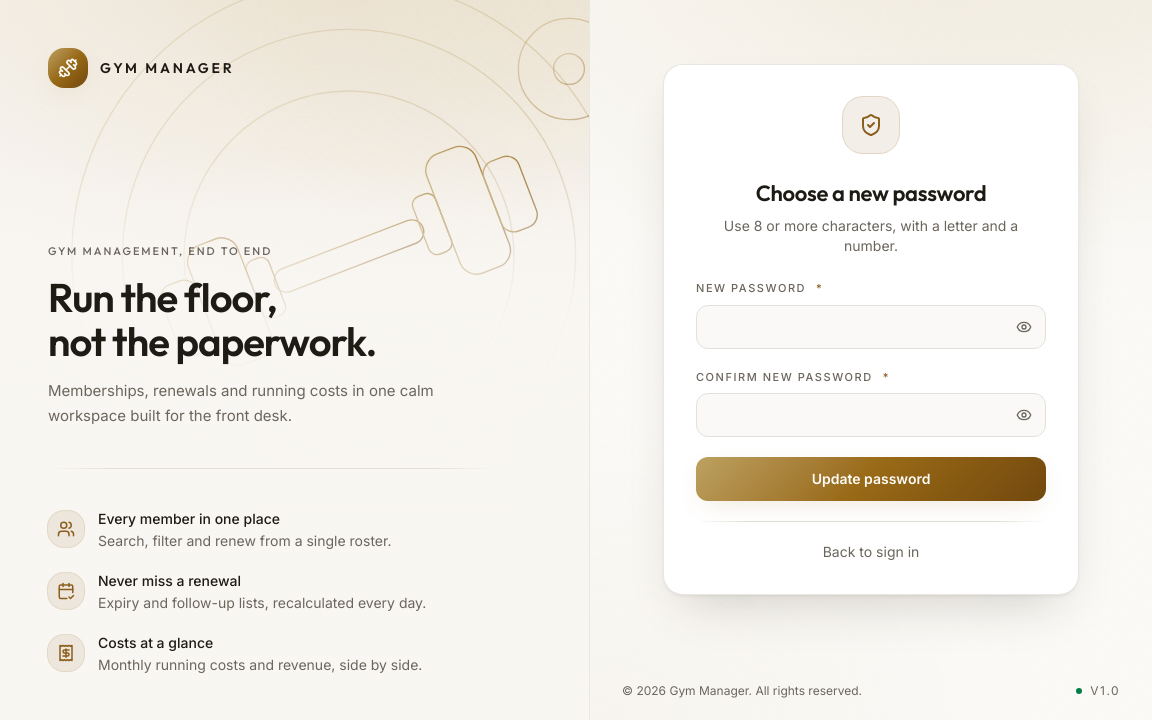
Scenario: ResetPasswordPage › surfaces an expired-token error from the server
Step 1. Type "BrandNew1" into the password field labelled "New password *" → x=871, y=326, box x1=696 y1=304 x2=1046 y2=348
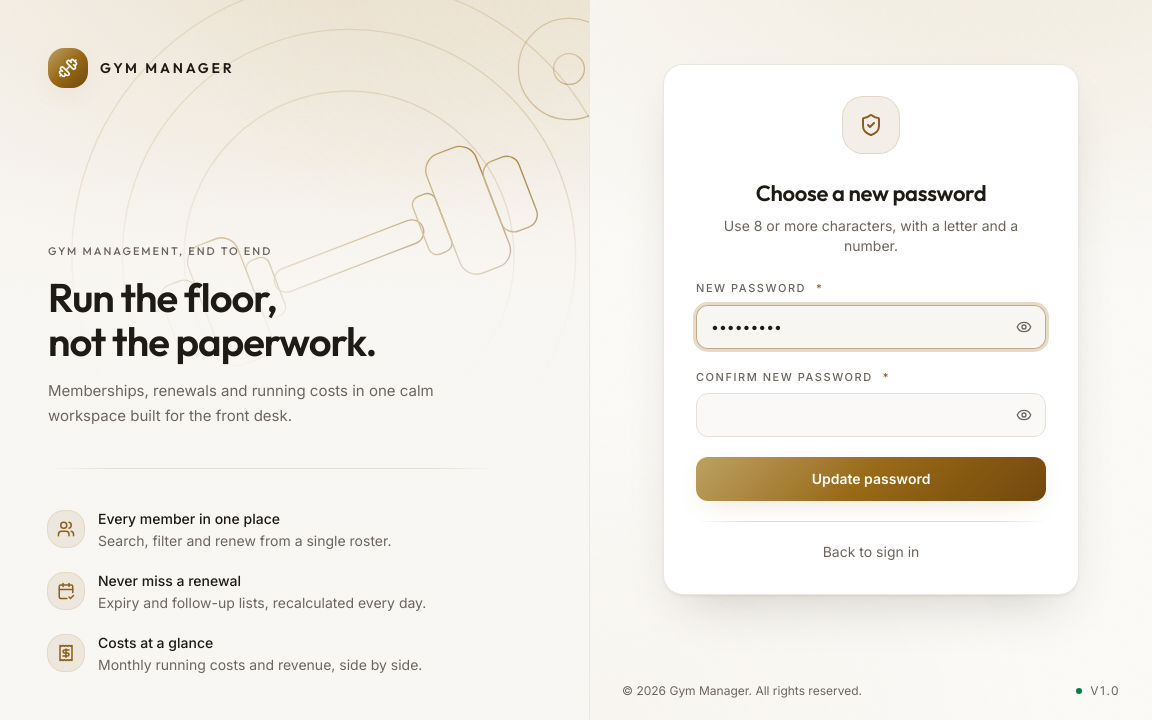
Step 2. Type "BrandNew1" into the password field labelled "Confirm new password *" → x=871, y=415, box x1=696 y1=393 x2=1046 y2=437
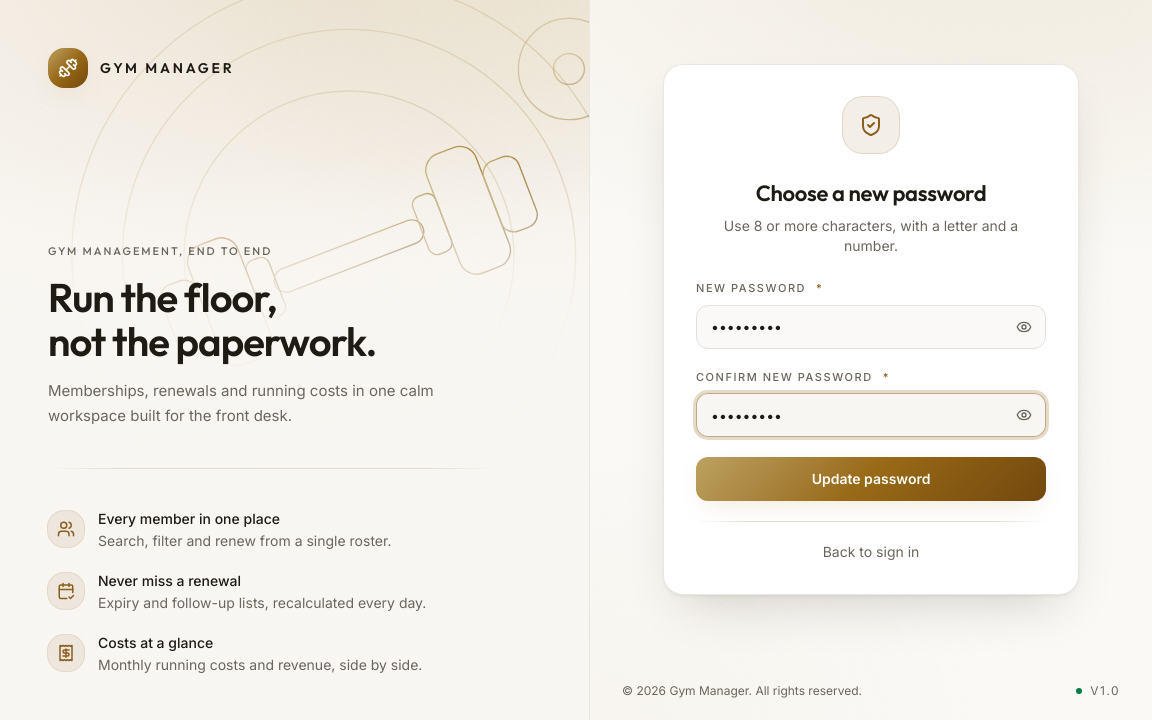
Step 3. Click the button "Update password" → x=871, y=479, box x1=696 y1=457 x2=1046 y2=501
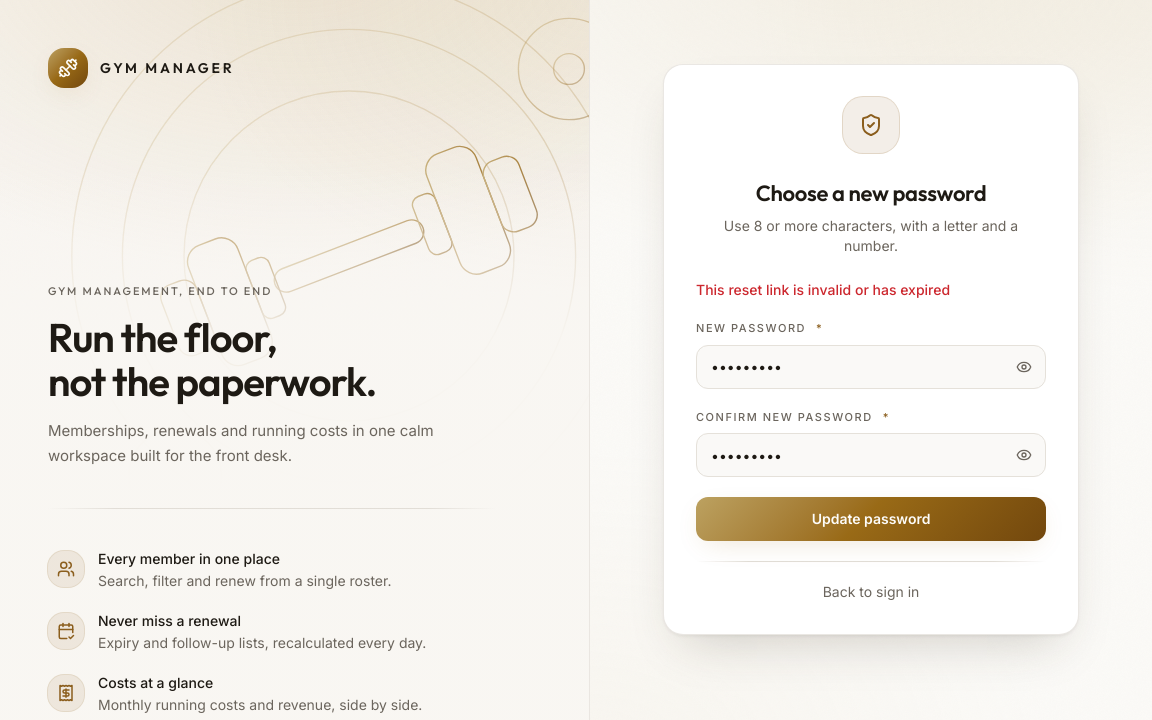
Result: the message shows "invalid or has expired" at x1=696 y1=281 x2=950 y2=298
